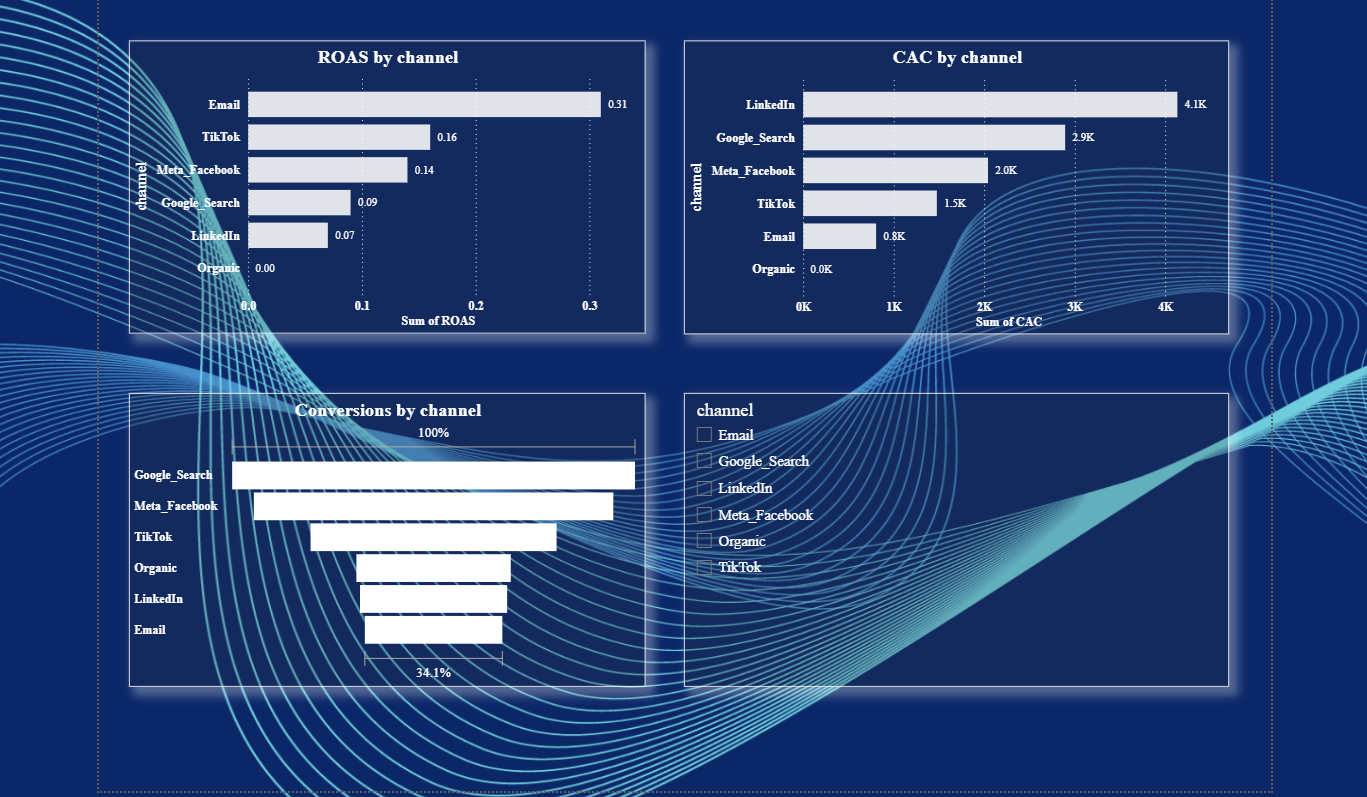

What the dashboard file says about the page in this screenshot:
{"tool":"powerbi","page":{"name":"Page 1","canvas":[1280,872],"ordinal":0},"visuals":[{"type":"clusteredBarChart","title":"ROAS by channel","fields":{"Category":["kpi_master_table.channel"],"Y":["Sum(kpi_master_table.ROAS)"]},"box":[32.9,52.1,564,319.7],"z":0},{"type":"clusteredBarChart","title":"CAC by channel","fields":{"Category":["kpi_master_table.channel"],"Y":["Sum(kpi_master_table.CAC)"]},"box":[639.5,52.1,595.5,321.1],"z":1000},{"type":"funnel","title":"Conversions by channel","fields":{"Y":["Sum(kpi_master_table.total_conversions)"],"Category":["kpi_master_table.channel"]},"box":[32.9,436.4,564,321.1],"z":2000},{"type":"slicer","title":"Channel Slicer","fields":{"Values":["kpi_master_table.channel"]},"box":[639.5,436.4,595.5,321.1],"z":3000}]}

Visuals, with their boxes in screenshot pixels (x1, y1, x2, y2):
"ROAS by channel" clusteredBarChart: BBox(136, 40, 645, 328)
"CAC by channel" clusteredBarChart: BBox(684, 40, 1221, 329)
"Conversions by channel" funnel: BBox(136, 386, 645, 676)
"Channel Slicer" slicer: BBox(684, 386, 1221, 676)
